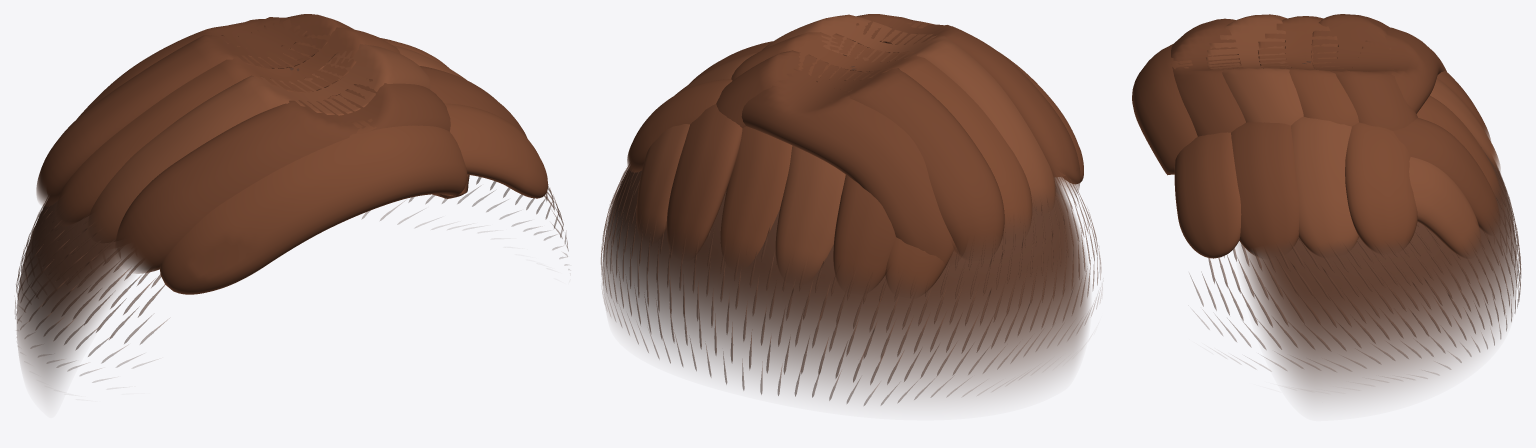
The model's file is Masculine-taper-cowboy259-hair.glb.
3 views of the same model, side by side, from view 1: azimuth 30°, elevation 25°; view 2: azimuth 150°, elevation 25°; view 3: azimuth 270°, elevation 25° (orthographic). The views are drawn at different scales.
Parts seen in each view (by area): view 1: 226 hair / Hair258 / sculpted side sweep 1, 226 hair / Hair258 / sculpted side sweep 0, 226 hair / Hair258 / smooth side fade, 226 hair / Hair258 / sculpted side sweep 2, 226 hair / Hair259 / directional fade marks214; view 2: 226 hair / Hair258 / smooth side fade, 226 hair / Hair258 / sculpted side sweep 0, 226 hair / Hair258 / sculpted side sweep 1, 226 hair / Hair258 / sculpted side sweep 2, 226 hair / Hair259 / directional fade marks214; view 3: 226 hair / Hair258 / smooth side fade, 226 hair / Hair258 / sculpted side sweep 0, 226 hair / Hair258 / sculpted side sweep 1, 226 hair / Hair258 / sculpted side sweep 2, 226 hair / Hair259 / directional fade marks214.
Boxes of the visible parts, left/top/right/bottom form: 226 hair / Hair258 / sculpted side sweep 1: left=56, top=27, right=548, bottom=294; 226 hair / Hair258 / sculpted side sweep 0: left=36, top=14, right=527, bottom=273; 226 hair / Hair258 / smooth side fade: left=17, top=68, right=547, bottom=395; 226 hair / Hair258 / sculpted side sweep 2: left=88, top=44, right=466, bottom=243; 226 hair / Hair259 / directional fade marks214: left=15, top=177, right=569, bottom=382; 226 hair / Hair258 / smooth side fade: left=602, top=66, right=1089, bottom=400; 226 hair / Hair258 / sculpted side sweep 0: left=666, top=14, right=1080, bottom=291; 226 hair / Hair258 / sculpted side sweep 1: left=627, top=21, right=1083, bottom=295; 226 hair / Hair258 / sculpted side sweep 2: left=636, top=14, right=1055, bottom=280; 226 hair / Hair259 / directional fade marks214: left=601, top=164, right=1102, bottom=405; 226 hair / Hair258 / smooth side fade: left=1238, top=61, right=1517, bottom=402; 226 hair / Hair258 / sculpted side sweep 0: left=1171, top=14, right=1499, bottom=258; 226 hair / Hair258 / sculpted side sweep 1: left=1132, top=16, right=1500, bottom=258; 226 hair / Hair258 / sculpted side sweep 2: left=1206, top=14, right=1500, bottom=258; 226 hair / Hair259 / directional fade marks214: left=1190, top=160, right=1521, bottom=378.
Size of the model in its own units: 0.9743 by 0.6218 by 0.7585.
